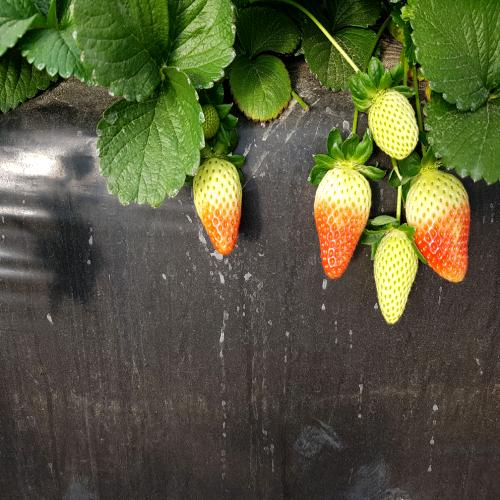partially-ripe: (403, 157, 477, 292), (314, 157, 373, 282), (184, 155, 251, 260)
